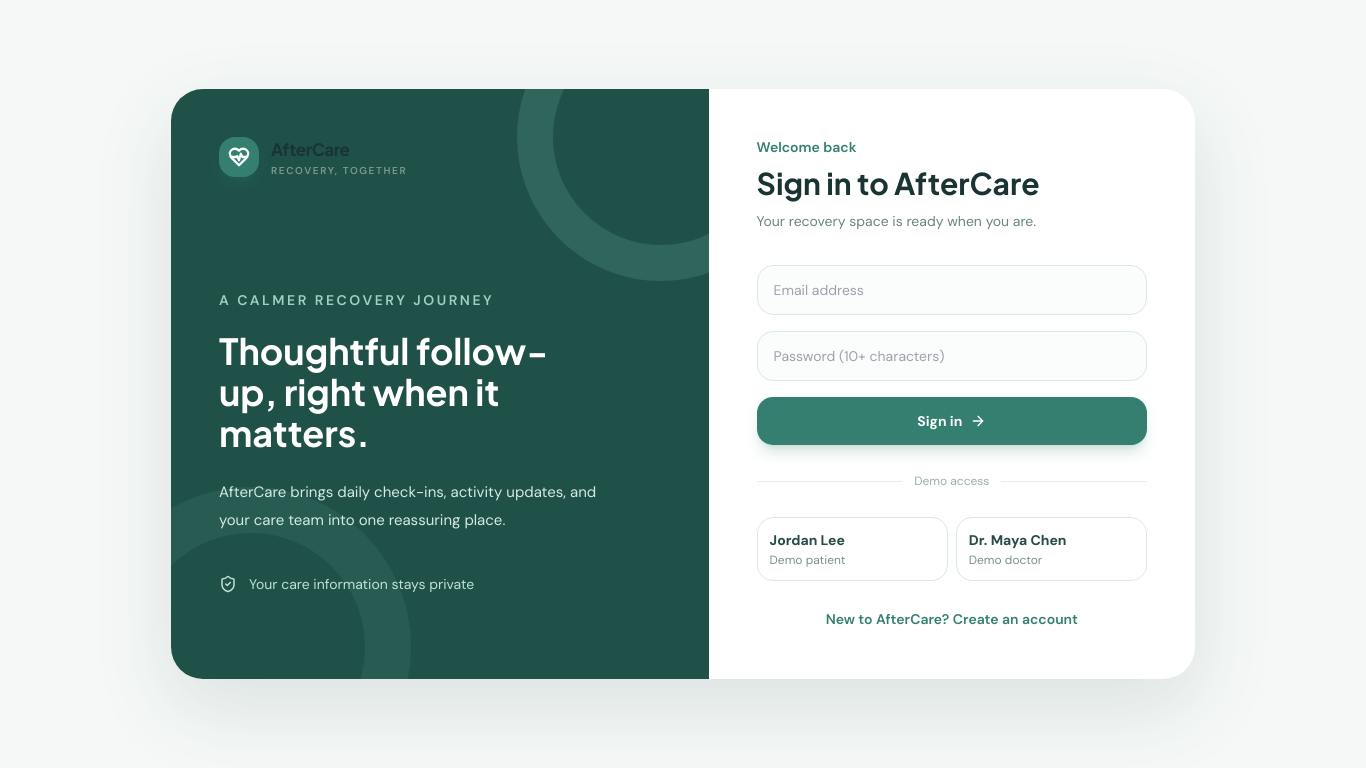
Scenario: AuthScreen › switches to sign-up form when toggling
The width and height of the screenshot is (1366, 768).
Click the button "New to AfterCare? Create an account" at (952, 619), box [757,609,1147,629]
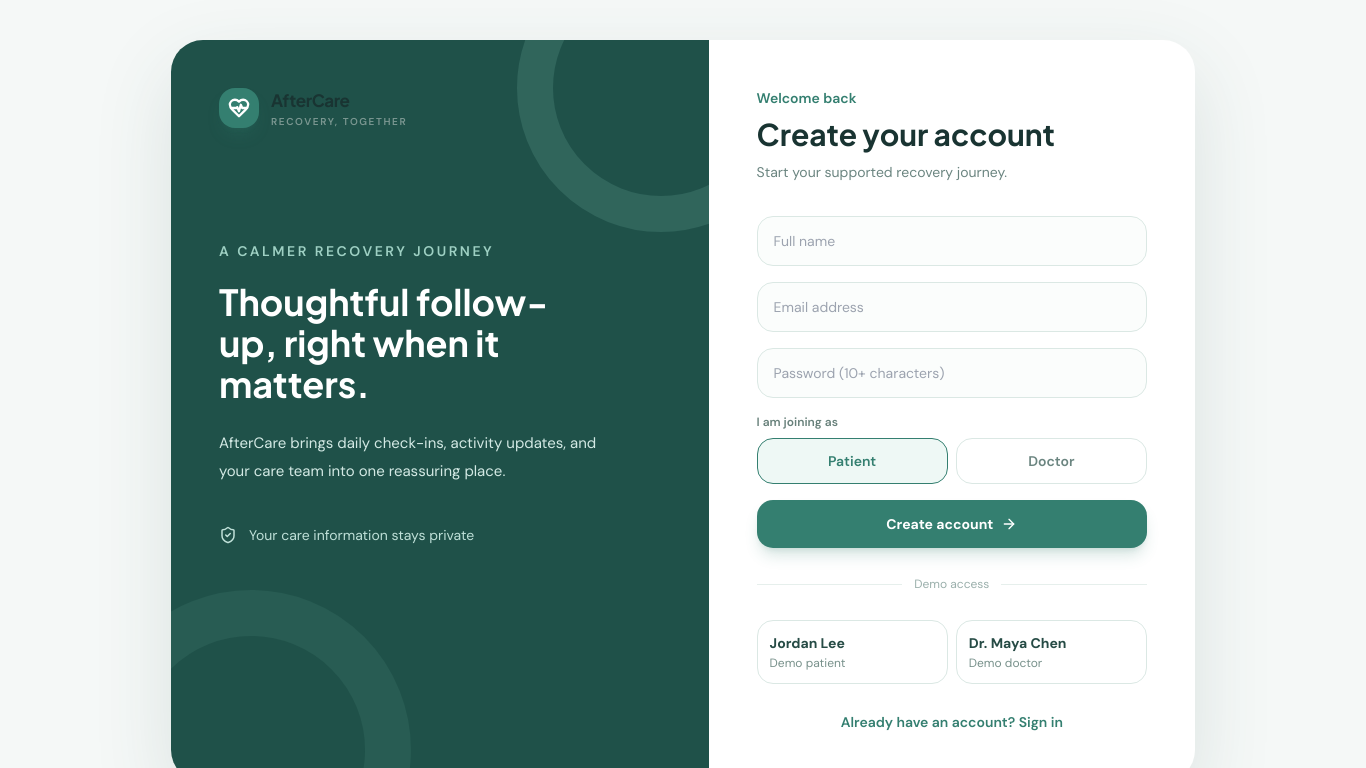
Expected: the heading "Create your account" is shown, [757,115,1055,153]
Expected: the field with placeholder "Full name" is shown, [757,216,1147,266]
